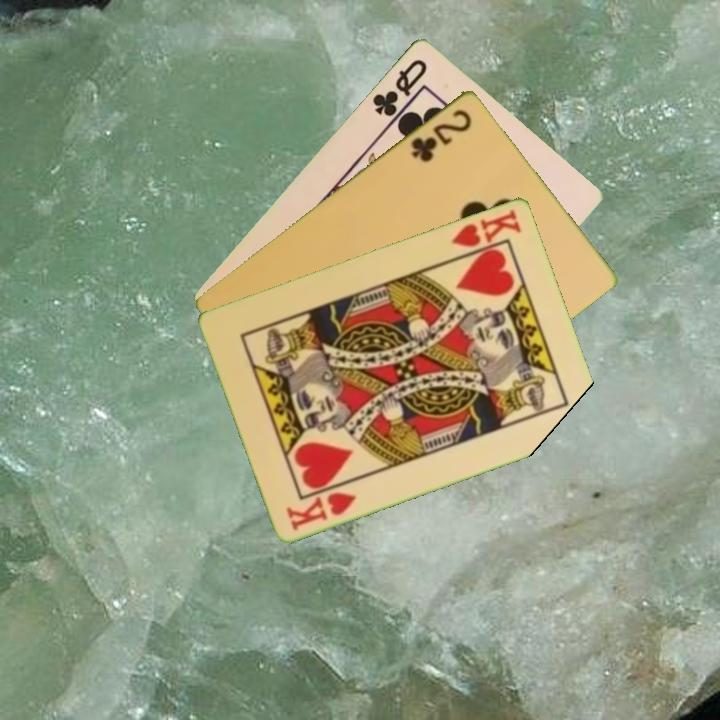2c: (407, 105, 475, 165)
Kh: (447, 205, 524, 261), (283, 487, 360, 533)
Qc: (368, 54, 430, 119)
